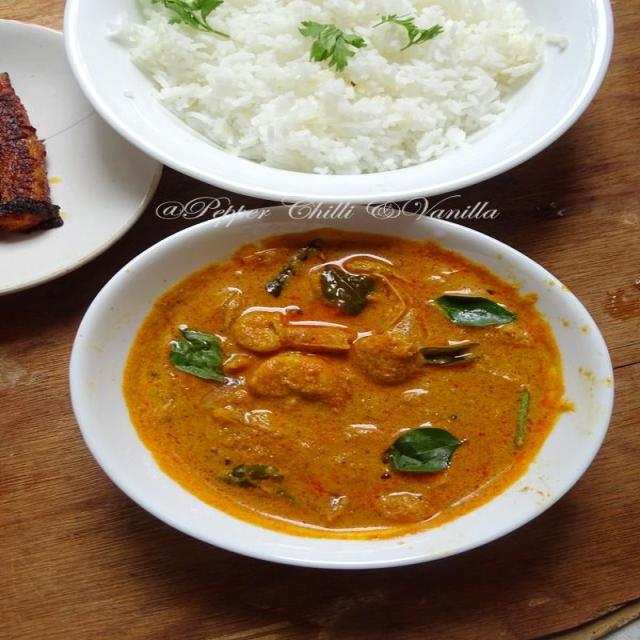prawn thokku: (121, 244, 621, 528)
rice: (117, 0, 555, 182)
